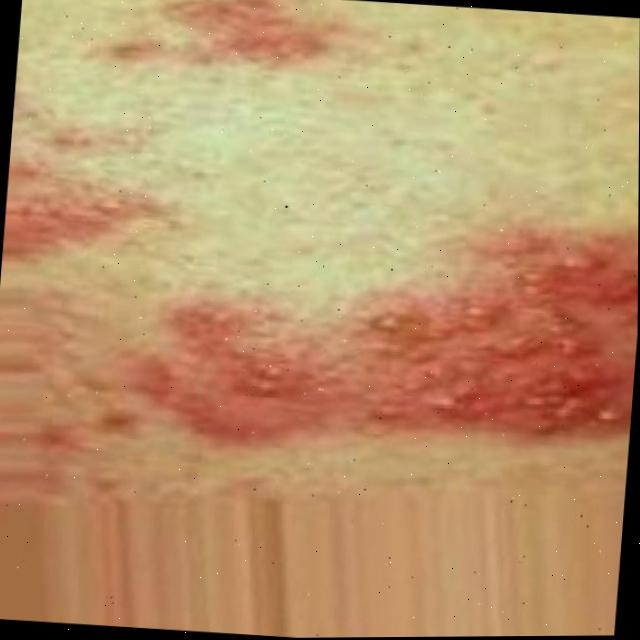Shingles: (8, 136, 639, 456), (135, 0, 312, 86)
